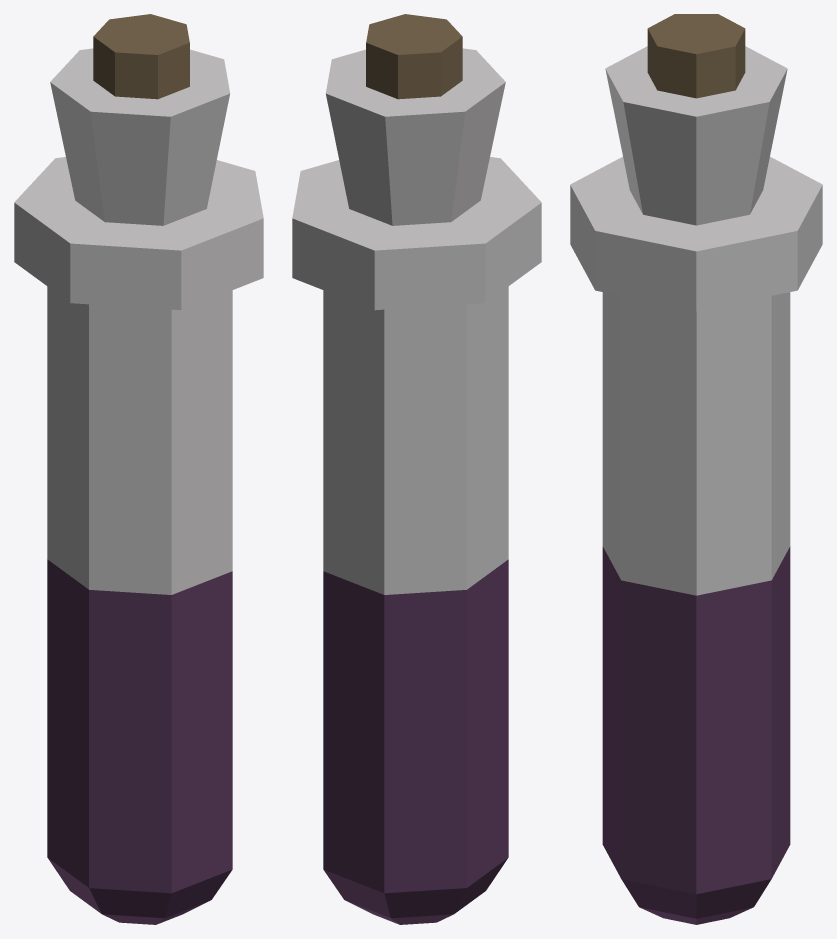
File: WF_LP_HT_Props_PotionBottle.009.fbx
The picture shows the model from 3 angles, left to right: view 1: azimuth 30°, elevation 25°; view 2: azimuth 150°, elevation 25°; view 3: azimuth 270°, elevation 25°; orthographic projection.
Parts seen in each view (by area): view 1: WF_LP_HT_Props_PotionBottle.009; view 2: WF_LP_HT_Props_PotionBottle.009; view 3: WF_LP_HT_Props_PotionBottle.009.
Boxes of the visible parts, x1,y1,x2,y2 form: WF_LP_HT_Props_PotionBottle.009: (14, 14, 263, 924); WF_LP_HT_Props_PotionBottle.009: (292, 14, 541, 924); WF_LP_HT_Props_PotionBottle.009: (570, 14, 822, 924).
Size of the model in its own units: 0.0608 by 0.2381 by 0.0624.
